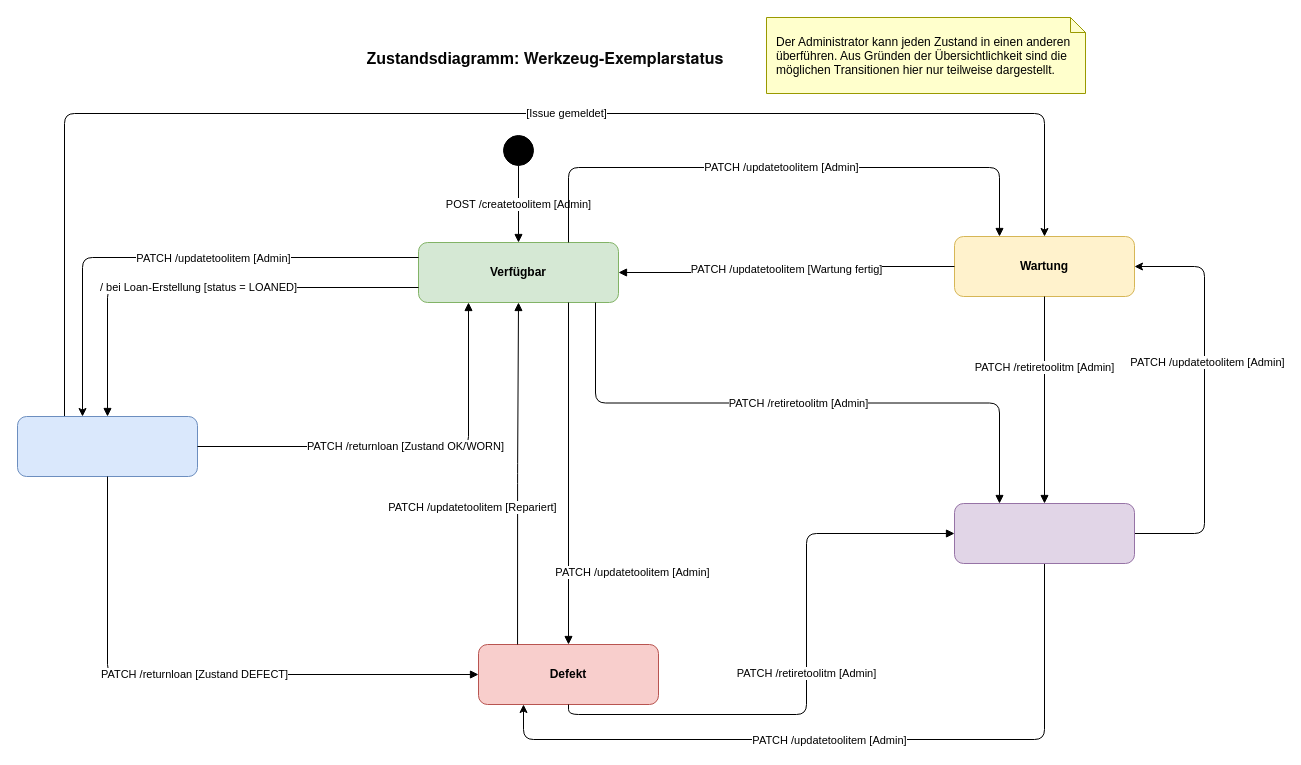
Image size: 1301x765. Some labels were removed from this diagram. Here are the shapes that lost their labels. From the top down, the centre of each, then its label:
At (x=107, y=446): "Ausgeliehen".
At (x=1044, y=533): "Ausgesondert".
